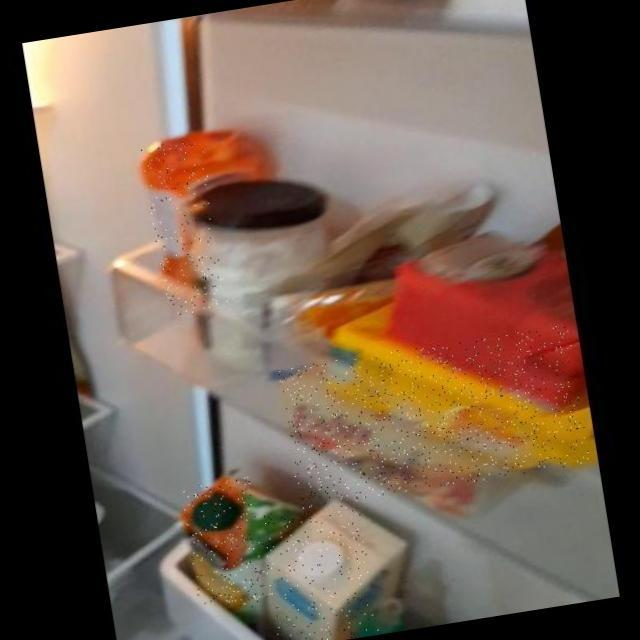Mantequilla: (278, 324, 591, 510)
